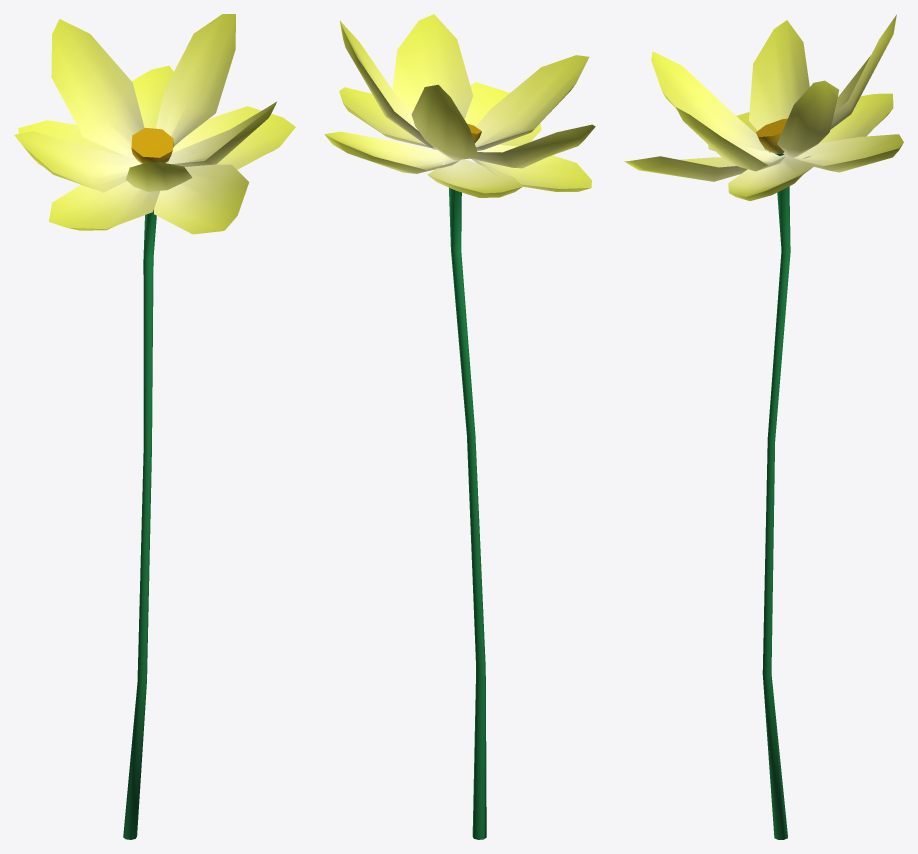
The model's file is AmericanLotus-Bloom-2.fbx.
The picture shows the model from 3 angles, left to right: view 1: azimuth 30°, elevation 25°; view 2: azimuth 150°, elevation 25°; view 3: azimuth 270°, elevation 25°; orthographic projection. The views are drawn at different scales.
Parts seen in each view (by area): view 1: AmericanLotus-Flower-2; view 2: AmericanLotus-Flower-2; view 3: AmericanLotus-Flower-2.
Part boxes in pixels (x1,y1,x2,y2): AmericanLotus-Flower-2: (14,14,295,839); AmericanLotus-Flower-2: (324,14,595,839); AmericanLotus-Flower-2: (624,14,903,839).
Bounding box in the file's own units: 71.82 × 205 × 63.6.
